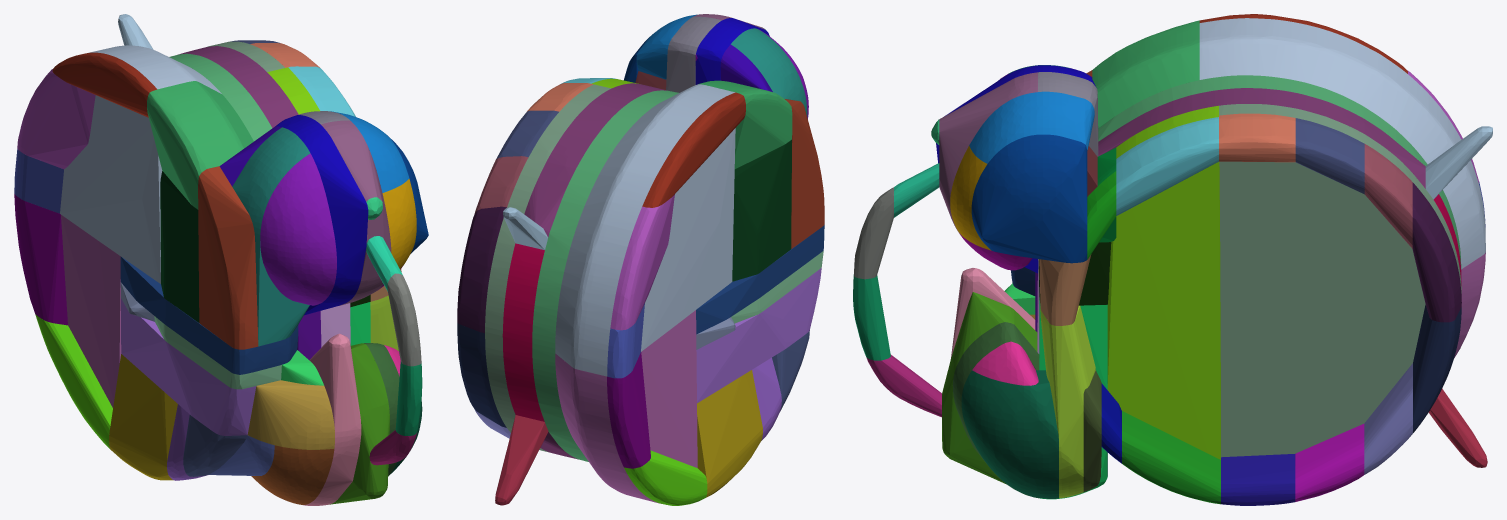
Rendered from coacd_collision.obj.
The picture shows the model from 3 angles, left to right: view 1: azimuth 30°, elevation 25°; view 2: azimuth 150°, elevation 25°; view 3: azimuth 270°, elevation 25°; orthographic projection. The views are drawn at different scales.
Parts seen in each view (by area): view 1: geometry_6, geometry_31, geometry_51, geometry_10, geometry_7, geometry_40, geometry_5, geometry_60, geometry_48, geometry_38, geometry_37, geometry_44 (+35 smaller); view 2: geometry_6, geometry_7, geometry_3, geometry_25, geometry_40, geometry_0, geometry_48, geometry_28, geometry_55, geometry_38, geometry_15, geometry_10 (+21 smaller); view 3: geometry_0, geometry_4, geometry_6, geometry_42, geometry_66, geometry_10, geometry_34, geometry_2, geometry_28, geometry_8, geometry_29, geometry_3 (+32 smaller).
Part boxes in pixels (x1=…): geometry_6: x1=60, y1=45, x2=221, y2=283; geometry_31: x1=198, y1=166, x2=258, y2=349; geometry_51: x1=260, y1=153, x2=336, y2=305; geometry_10: x1=147, y1=81, x2=253, y2=209; geometry_7: x1=61, y1=215, x2=121, y2=407; geometry_40: x1=121, y1=298, x2=256, y2=435; geometry_5: x1=275, y1=115, x2=368, y2=315; geometry_60: x1=232, y1=127, x2=310, y2=346; geometry_48: x1=109, y1=354, x2=177, y2=480; geometry_38: x1=17, y1=69, x2=95, y2=169; geometry_37: x1=247, y1=380, x2=334, y2=449; geometry_44: x1=120, y1=256, x2=298, y2=374; geometry_6: x1=555, y1=84, x2=735, y2=376; geometry_7: x1=555, y1=310, x2=697, y2=503; geometry_3: x1=532, y1=90, x2=678, y2=461; geometry_25: x1=732, y1=139, x2=791, y2=281; geometry_40: x1=696, y1=268, x2=821, y2=403; geometry_0: x1=485, y1=84, x2=611, y2=452; geometry_48: x1=697, y1=370, x2=762, y2=497; geometry_28: x1=524, y1=83, x2=666, y2=459; geometry_55: x1=502, y1=243, x2=544, y2=421; geometry_38: x1=610, y1=194, x2=674, y2=330; geometry_15: x1=642, y1=92, x2=745, y2=207; geometry_10: x1=698, y1=80, x2=792, y2=168; geometry_0: x1=1219, y1=104, x2=1461, y2=457; geometry_4: x1=1107, y1=105, x2=1220, y2=459; geometry_6: x1=1199, y1=18, x2=1485, y2=268; geometry_42: x1=971, y1=134, x2=1087, y2=263; geometry_66: x1=961, y1=370, x2=1058, y2=498; geometry_10: x1=1092, y1=20, x2=1199, y2=128; geometry_34: x1=1040, y1=305, x2=1095, y2=498; geometry_2: x1=1116, y1=117, x2=1218, y2=215; geometry_28: x1=1098, y1=88, x2=1425, y2=188; geometry_8: x1=1122, y1=411, x2=1220, y2=504; geometry_29: x1=969, y1=91, x2=1094, y2=163; geometry_3: x1=1098, y1=75, x2=1461, y2=269.
Size of the model in its own units: 61.15 by 118 by 159.
